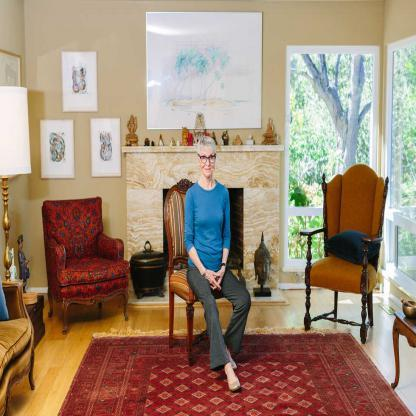chair: (295, 163, 394, 348), (34, 189, 136, 336), (159, 177, 231, 369)
light: (0, 75, 33, 284)
sofa: (0, 264, 44, 415)
table: (384, 292, 416, 392)
